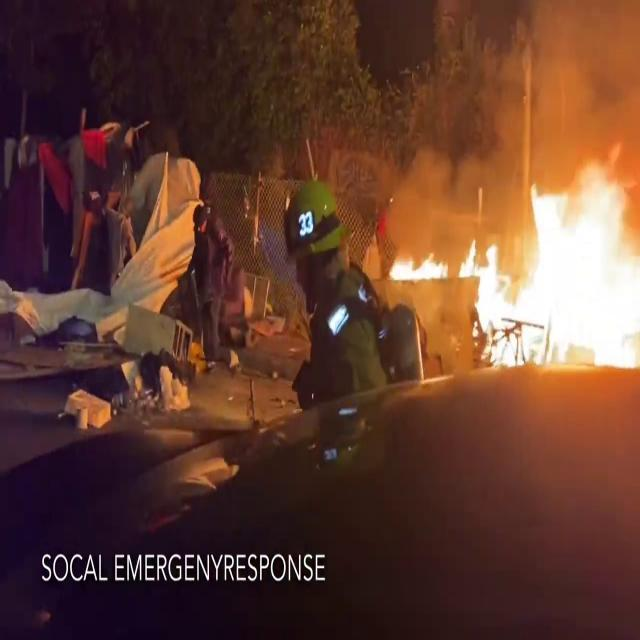Fire: (398, 148, 640, 374)
